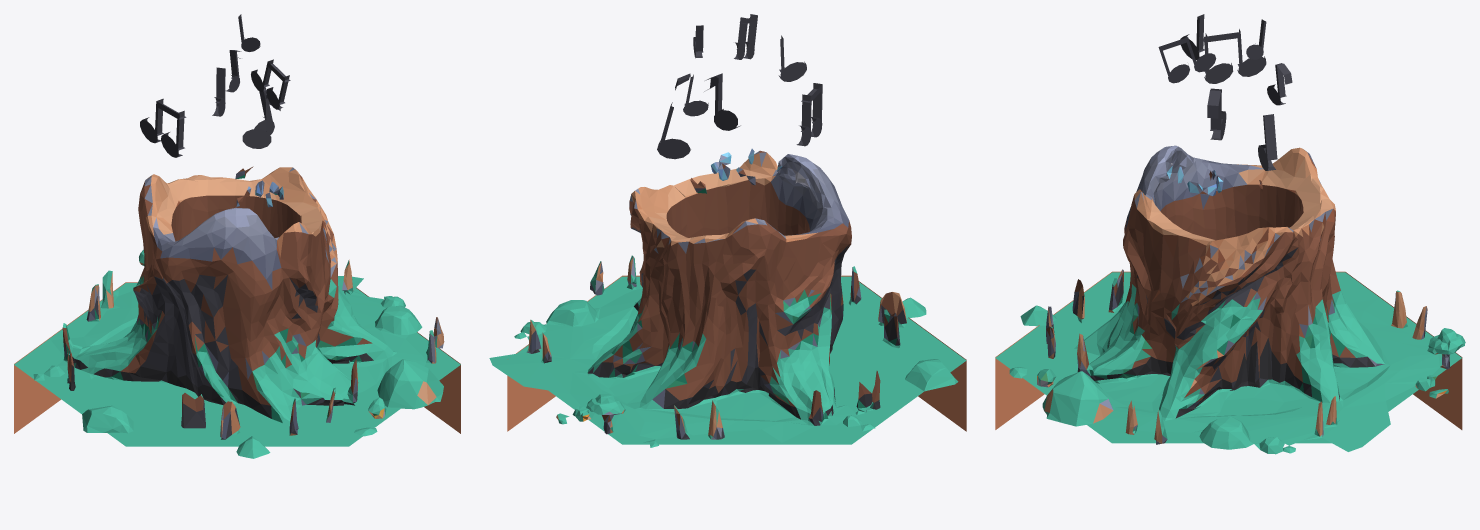
The model's file is tinkle-trunk-notes.glb.
3 renders of one model, left to right at view 1: azimuth 30°, elevation 25°; view 2: azimuth 150°, elevation 25°; view 3: azimuth 270°, elevation 25°, orthographic. The views are drawn at different scales.
Parts seen in each view (by area): view 1: world, hexBase, notes; view 2: world, hexBase, notes; view 3: world, hexBase, notes.
Boxes of the visible parts, x1,y1,x2,y2 form: world: (33,166,444,458); hexBase: (14,282,460,446); notes: (140,14,290,157); world: (489,148,958,447); hexBase: (507,275,966,444); notes: (657,14,822,159); world: (1009,145,1465,454); hexBase: (995,271,1462,443); notes: (1158,14,1292,170).
Size of the model in its own units: 1.11 by 1.15 by 1.16.
4 materials, 4 textured.
